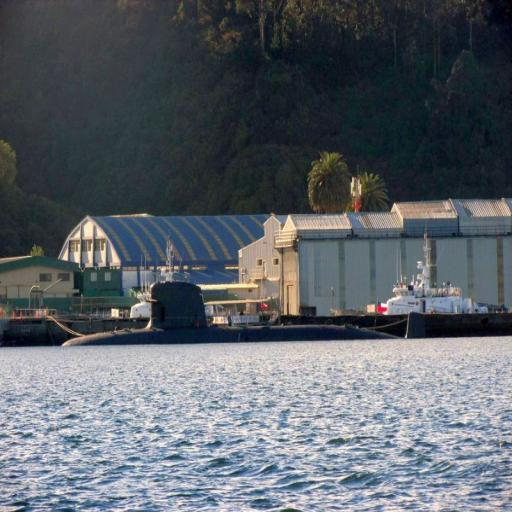submarine: (32, 270, 461, 341)
